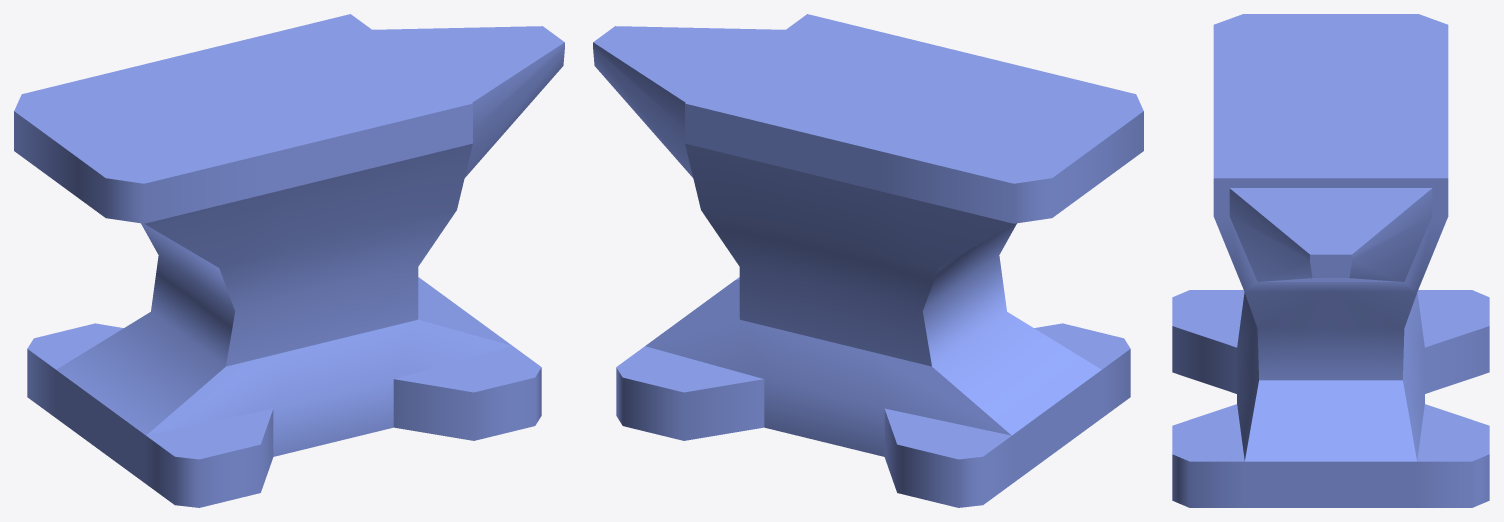
Rendered from Anvil.fbx.
The picture shows the model from 3 angles, left to right: view 1: azimuth 30°, elevation 25°; view 2: azimuth 150°, elevation 25°; view 3: azimuth 270°, elevation 25°; orthographic projection. The views are drawn at different scales.
Parts seen in each view (by area): view 1: Anvil; view 2: Anvil; view 3: Anvil.
Boxes of the visible parts, box(x1,y1,x2,y2) form: Anvil: box(14, 14, 564, 507); Anvil: box(593, 14, 1143, 507); Anvil: box(1172, 14, 1489, 507).
Size of the model in its own units: 432 by 265 by 251.
